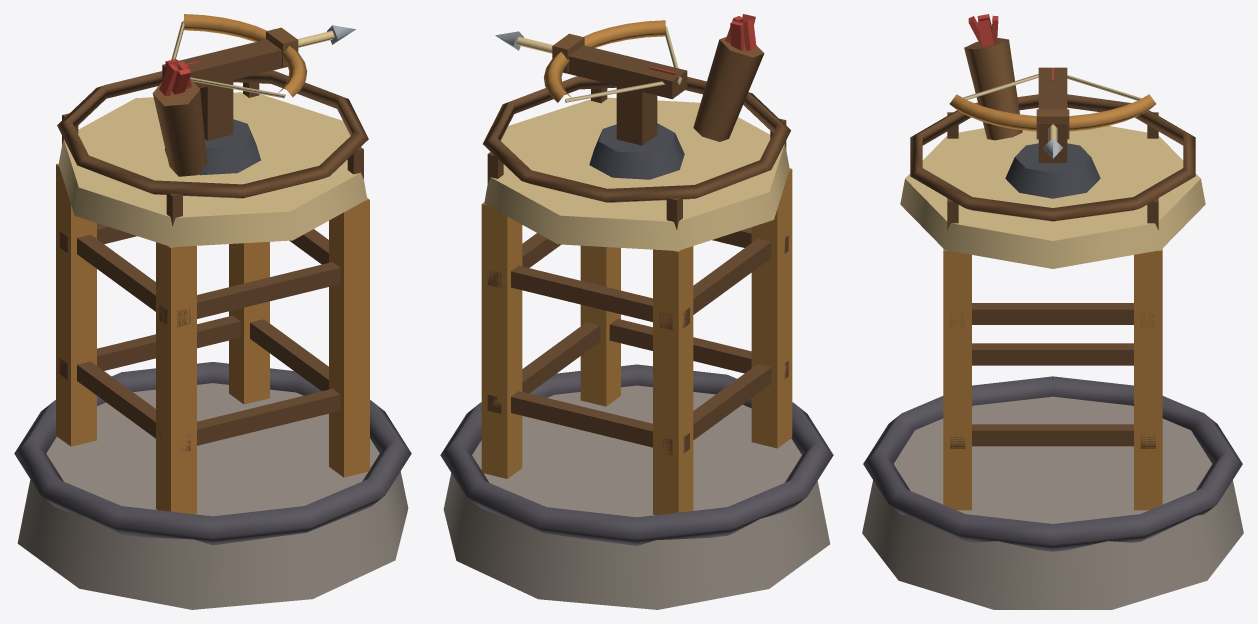
The model's file is tower_archer.glb.
3 views of the same model, side by side, from view 1: azimuth 30°, elevation 25°; view 2: azimuth 150°, elevation 25°; view 3: azimuth 270°, elevation 25° (orthographic). The views are drawn at different scales.
Parts seen in each view (by area): view 1: base, deck, base_rim, post_wn, post_en, post_ws, rail, post_es, beam_x_1_n, quiver, beam_x_0_n, stock (+10 smaller); view 2: base, deck, base_rim, post_ws, post_es, post_wn, rail, post_en, quiver, swivel, beam_x_1_s, beam_x_0_s (+10 smaller); view 3: base, deck, base_rim, post_en, rail, post_es, beam_z_0_e, beam_z_0_w, beam_z_1_e, swivel, quiver, bow (+2 smaller).
Boxes of the visible parts, bbox=[...] form: base: bbox=[17, 383, 408, 609]; deck: bbox=[58, 92, 367, 247]; base_rim: bbox=[14, 362, 411, 545]; post_wn: bbox=[156, 242, 196, 514]; post_en: bbox=[329, 198, 369, 477]; post_ws: bbox=[56, 163, 96, 446]; rail: bbox=[57, 70, 368, 198]; post_es: bbox=[229, 241, 269, 404]; beam_x_1_n: bbox=[159, 262, 340, 325]; quiver: bbox=[152, 79, 206, 176]; beam_x_0_n: bbox=[159, 388, 340, 446]; stock: bbox=[162, 39, 287, 88]; base: bbox=[443, 385, 830, 609]; deck: bbox=[484, 97, 789, 250]; base_rim: bbox=[440, 364, 833, 545]; post_ws: bbox=[653, 246, 693, 515]; post_es: bbox=[481, 202, 522, 478]; post_wn: bbox=[751, 168, 792, 448]; rail: bbox=[483, 76, 790, 202]; post_en: bbox=[580, 245, 620, 406]; quiver: bbox=[693, 37, 764, 141]; swivel: bbox=[589, 123, 684, 179]; beam_x_1_s: bbox=[511, 265, 689, 328]; beam_x_0_s: bbox=[511, 391, 689, 453]; base: bbox=[862, 396, 1243, 609]; deck: bbox=[900, 126, 1205, 268]; base_rim: bbox=[863, 376, 1242, 551]; post_en: bbox=[943, 249, 971, 510]; rail: bbox=[910, 94, 1195, 221]; post_es: bbox=[1134, 249, 1162, 510]; beam_z_0_e: bbox=[972, 424, 1133, 446]; beam_z_0_w: bbox=[972, 343, 1133, 365]; beam_z_1_e: bbox=[972, 303, 1133, 324]; swivel: bbox=[1005, 143, 1100, 198]; quiver: bbox=[964, 38, 1022, 140]; bow: bbox=[949, 94, 1156, 131].
Size of the model in its own units: 0.398 by 0.5582 by 0.4.
